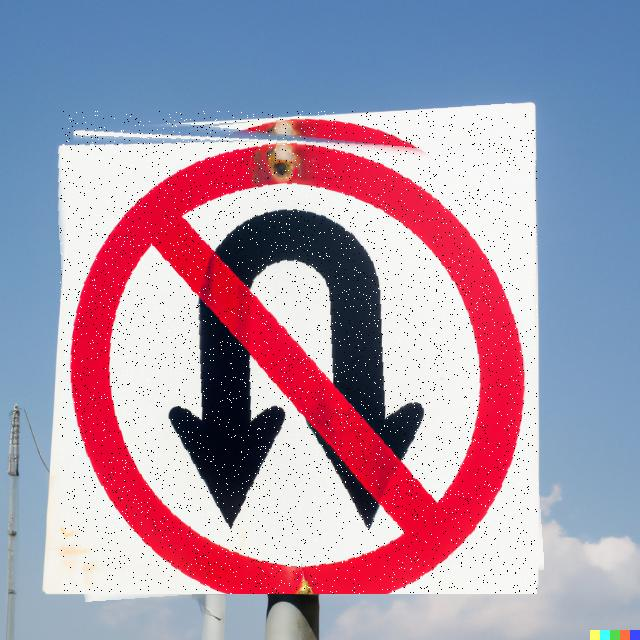no u turn: (60, 111, 537, 594)
